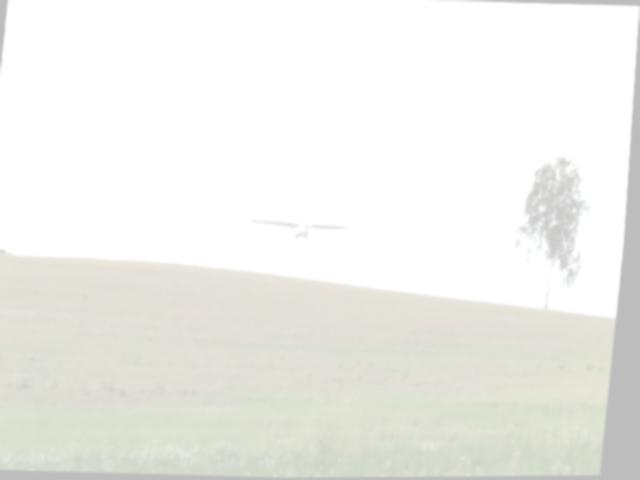uav: (248, 213, 357, 247)
